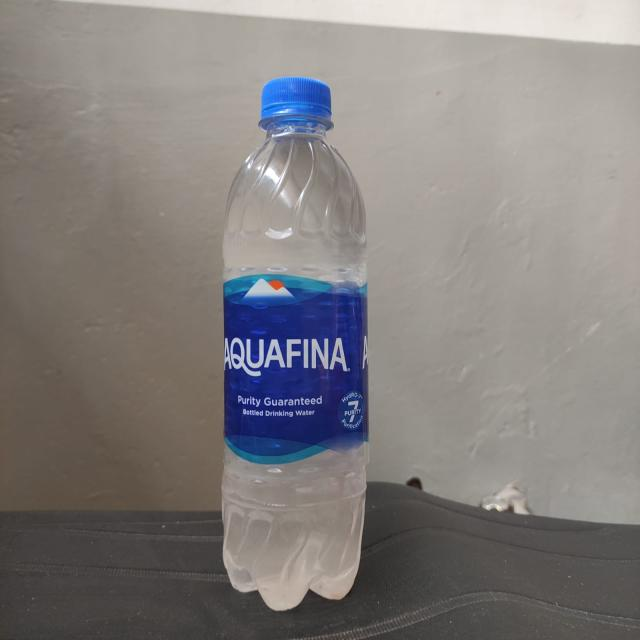bottle: (215, 71, 383, 640)
cap: (255, 73, 342, 142)
label: (222, 280, 369, 466)
